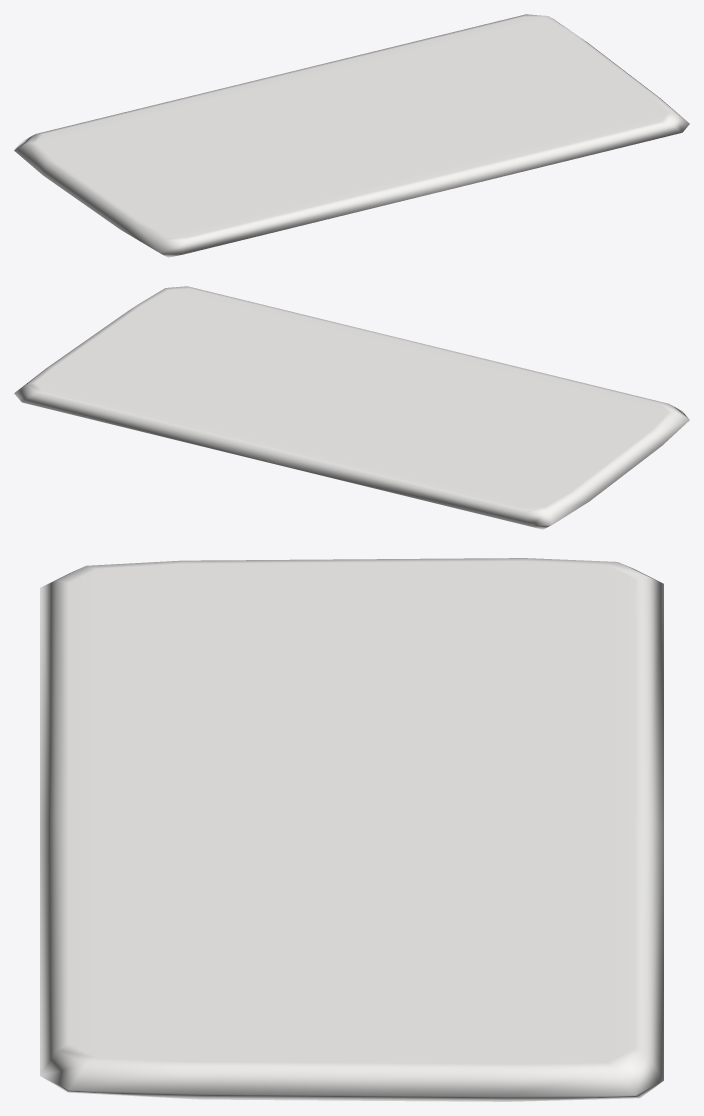
File: P_RugSmallStripes.glb
3 renders of one model, top to bottom at view 1: azimuth 30°, elevation 25°; view 2: azimuth 150°, elevation 25°; view 3: azimuth 270°, elevation 25°, orthographic. The views are drawn at different scales.
Visible parts, largest first — view 1: P_RugSmallStripes; view 2: P_RugSmallStripes; view 3: P_RugSmallStripes.
Part boxes in pixels (x1,y1,x2,y2): P_RugSmallStripes: (14, 14, 689, 257); P_RugSmallStripes: (14, 286, 689, 529); P_RugSmallStripes: (40, 558, 663, 1101).
Bounding box in the file's own units: 1.51 × 0.0405 × 0.75.
Materials: 1 (1 with a texture image).
